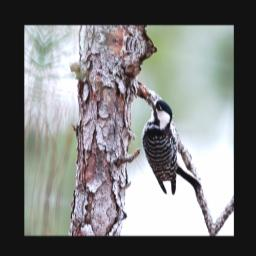Woodpecker: (132, 92, 212, 202)
